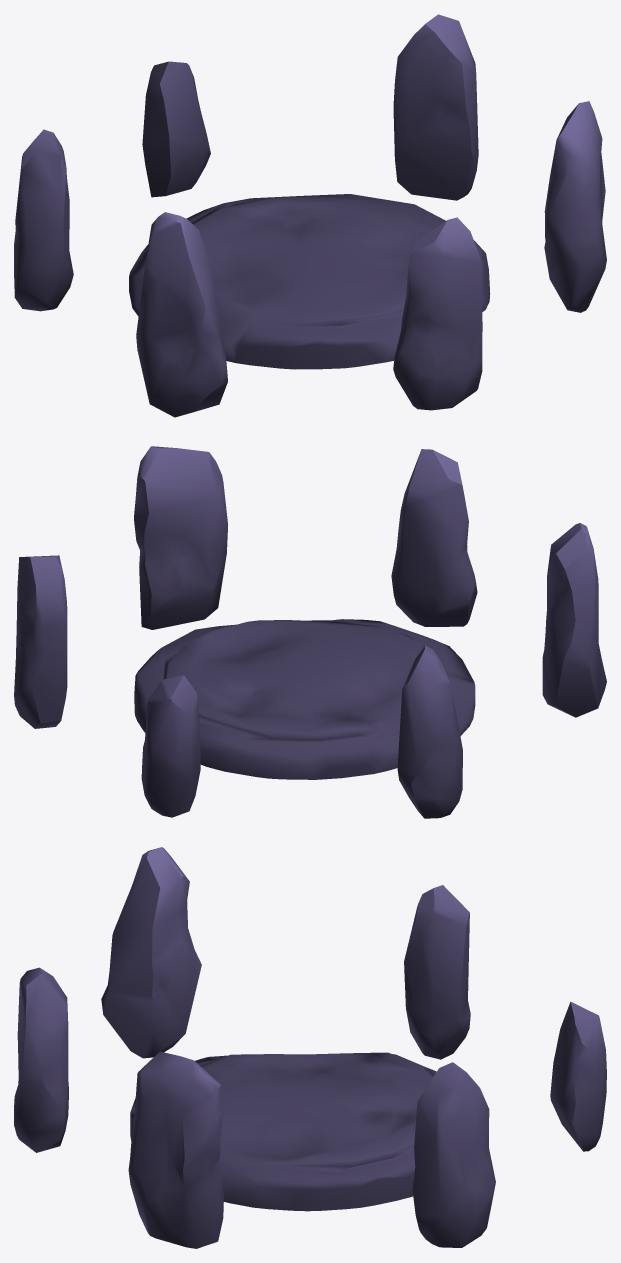
File: Waypoint1.fbx
3 renders of one model, top to bottom at view 1: azimuth 30°, elevation 25°; view 2: azimuth 150°, elevation 25°; view 3: azimuth 270°, elevation 25°, orthographic. The views are drawn at different scales.
Visible parts, largest first — view 1: portalbase; view 2: portalbase; view 3: portalbase.
Part boxes in pixels (left/top/right/bottom): portalbase: left=14, top=14, right=606, bottom=417; portalbase: left=14, top=446, right=606, bottom=818; portalbase: left=14, top=847, right=606, bottom=1248.
Size of the model in its own units: 1140 by 467 by 1267.
